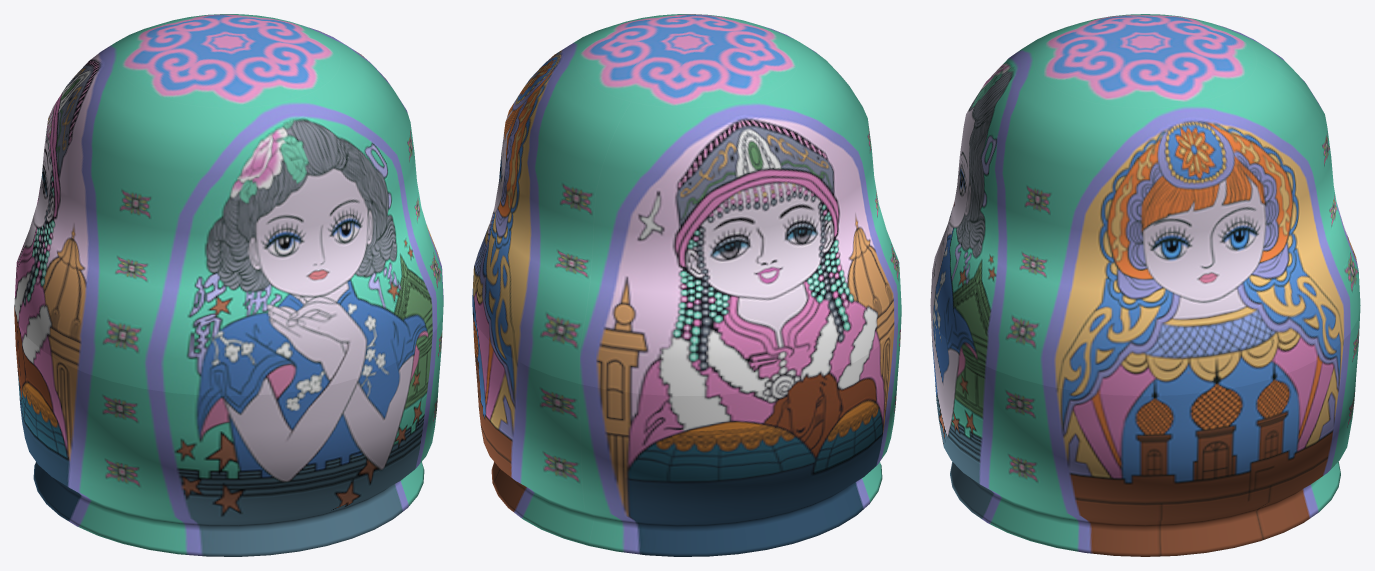
The model's file is tw_tiao.fbx.
3 views of the same model, side by side, from view 1: azimuth 30°, elevation 25°; view 2: azimuth 150°, elevation 25°; view 3: azimuth 270°, elevation 25° (orthographic).
Parts seen in each view (by area): view 1: tw_1_u, tw_1_d; view 2: tw_1_u, tw_1_d; view 3: tw_1_u, tw_1_d.
Part boxes in pixels (left/top/right/bottom): tw_1_u: left=14, top=14, right=443, bottom=396; tw_1_d: left=14, top=305, right=443, bottom=556; tw_1_u: left=472, top=14, right=901, bottom=396; tw_1_d: left=472, top=305, right=901, bottom=556; tw_1_u: left=930, top=14, right=1360, bottom=396; tw_1_d: left=930, top=307, right=1360, bottom=556.
Size of the model in its own units: 16.21 by 18.02 by 16.21.
